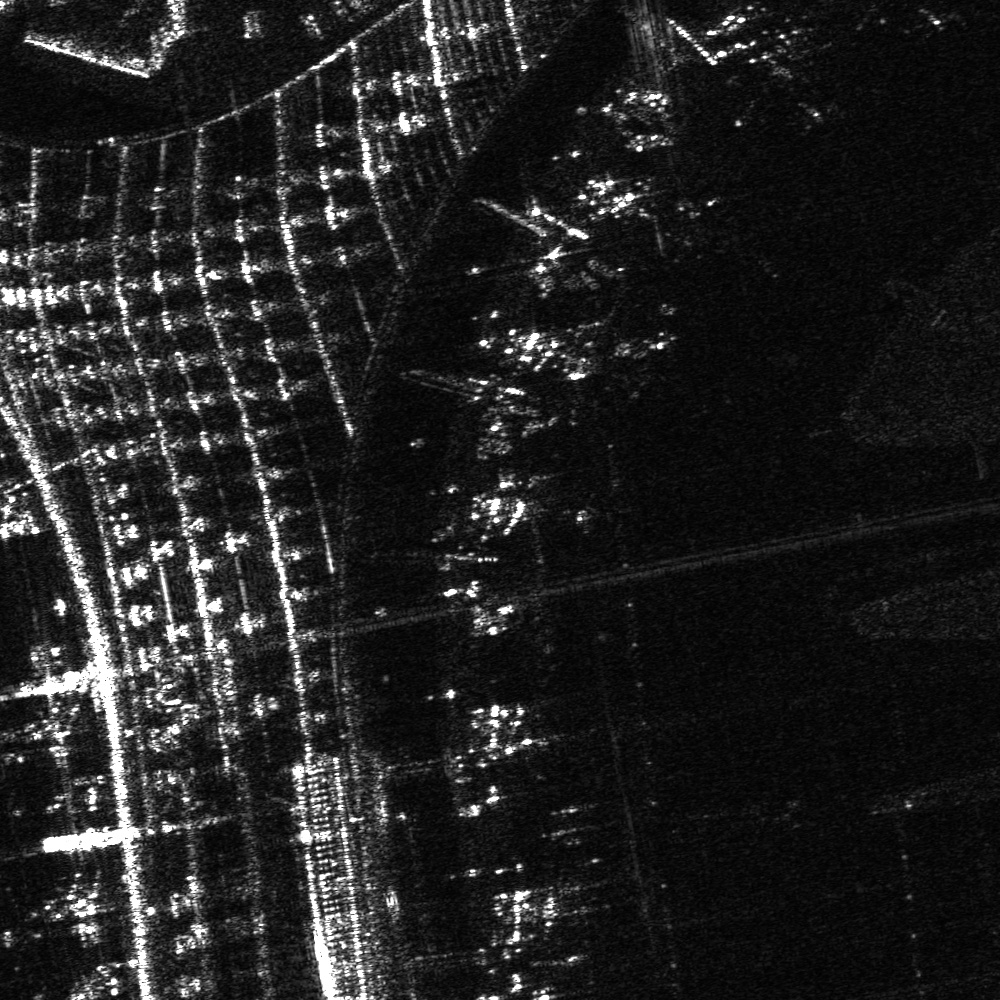A220: (500, 699, 568, 783)
Boeing787: (734, 33, 843, 125)
